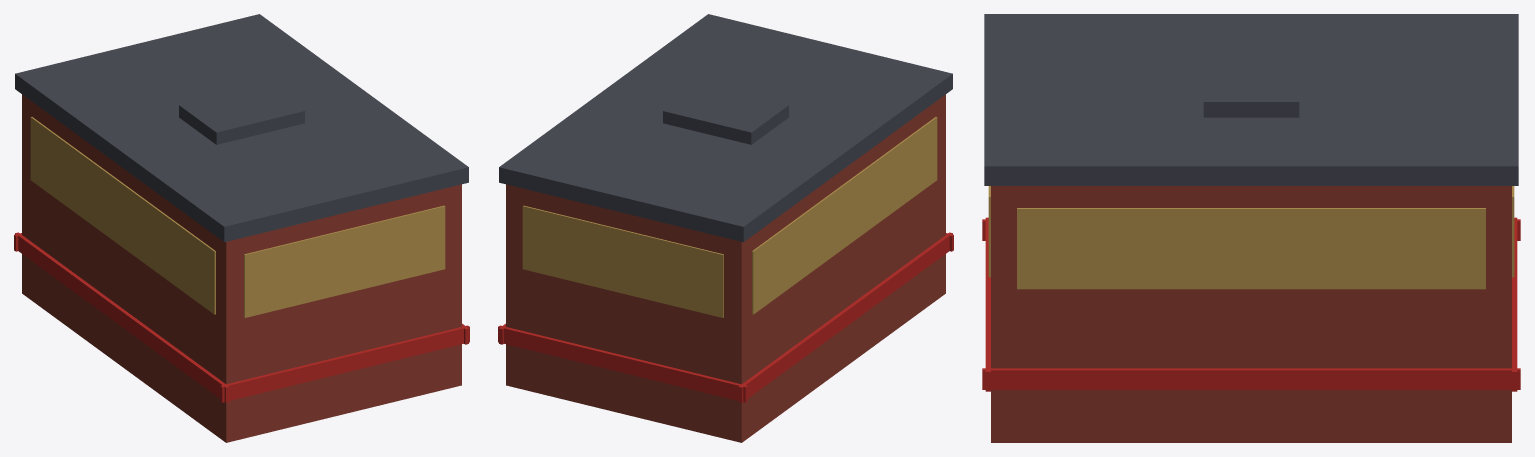
Rendered from shop_d.obj.
3 renders of one model, left to right at view 1: azimuth 30°, elevation 25°; view 2: azimuth 150°, elevation 25°; view 3: azimuth 270°, elevation 25°, orthographic. The views are drawn at different scales.
Parts seen in each view (by area): view 1: Cube; view 2: Cube; view 3: Cube.
Part boxes in pixels (x1=…): Cube: x1=14, y1=14, x2=469, y2=442; Cube: x1=498, y1=14, x2=953, y2=442; Cube: x1=982, y1=14, x2=1520, y2=442.
Size of the model in its own units: 8.4 by 7.5 by 12.4.
